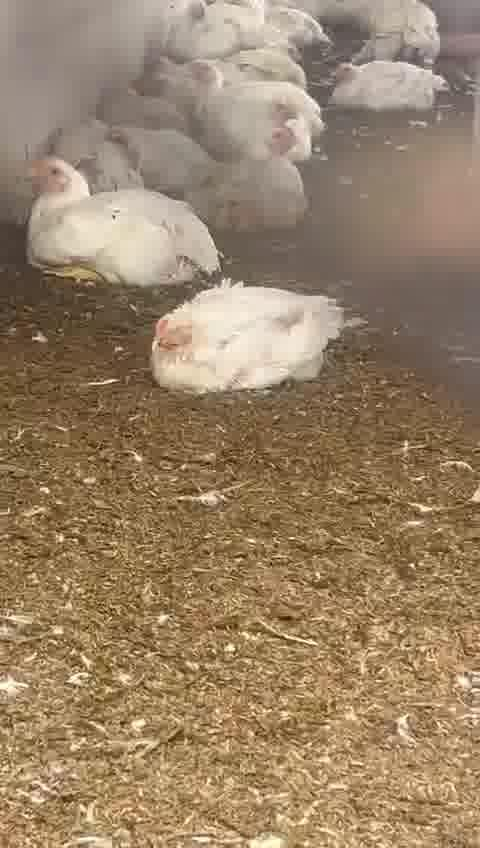AbNormal: (144, 290, 338, 397), (190, 64, 325, 160), (192, 124, 304, 230), (324, 57, 453, 113)
Normal: (21, 153, 217, 284)
